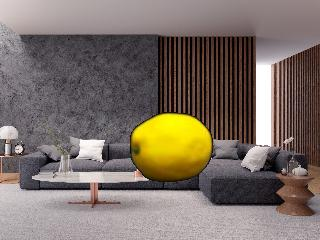lemon: (130, 114, 210, 181)
